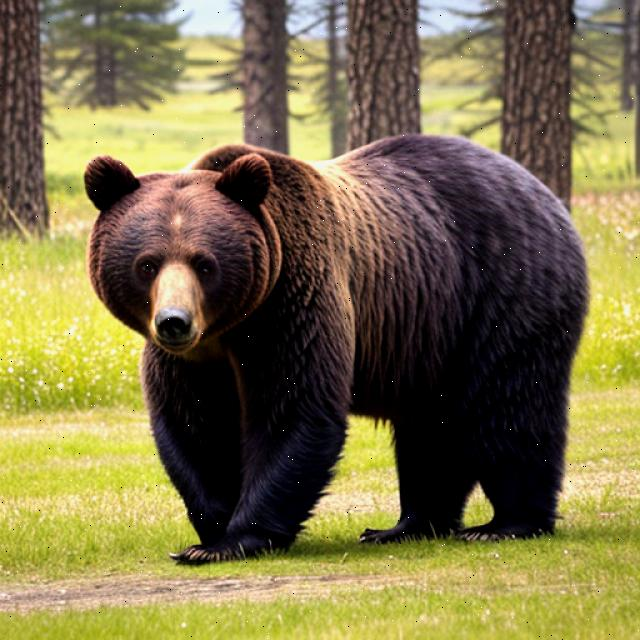bear: (76, 150, 292, 373)
